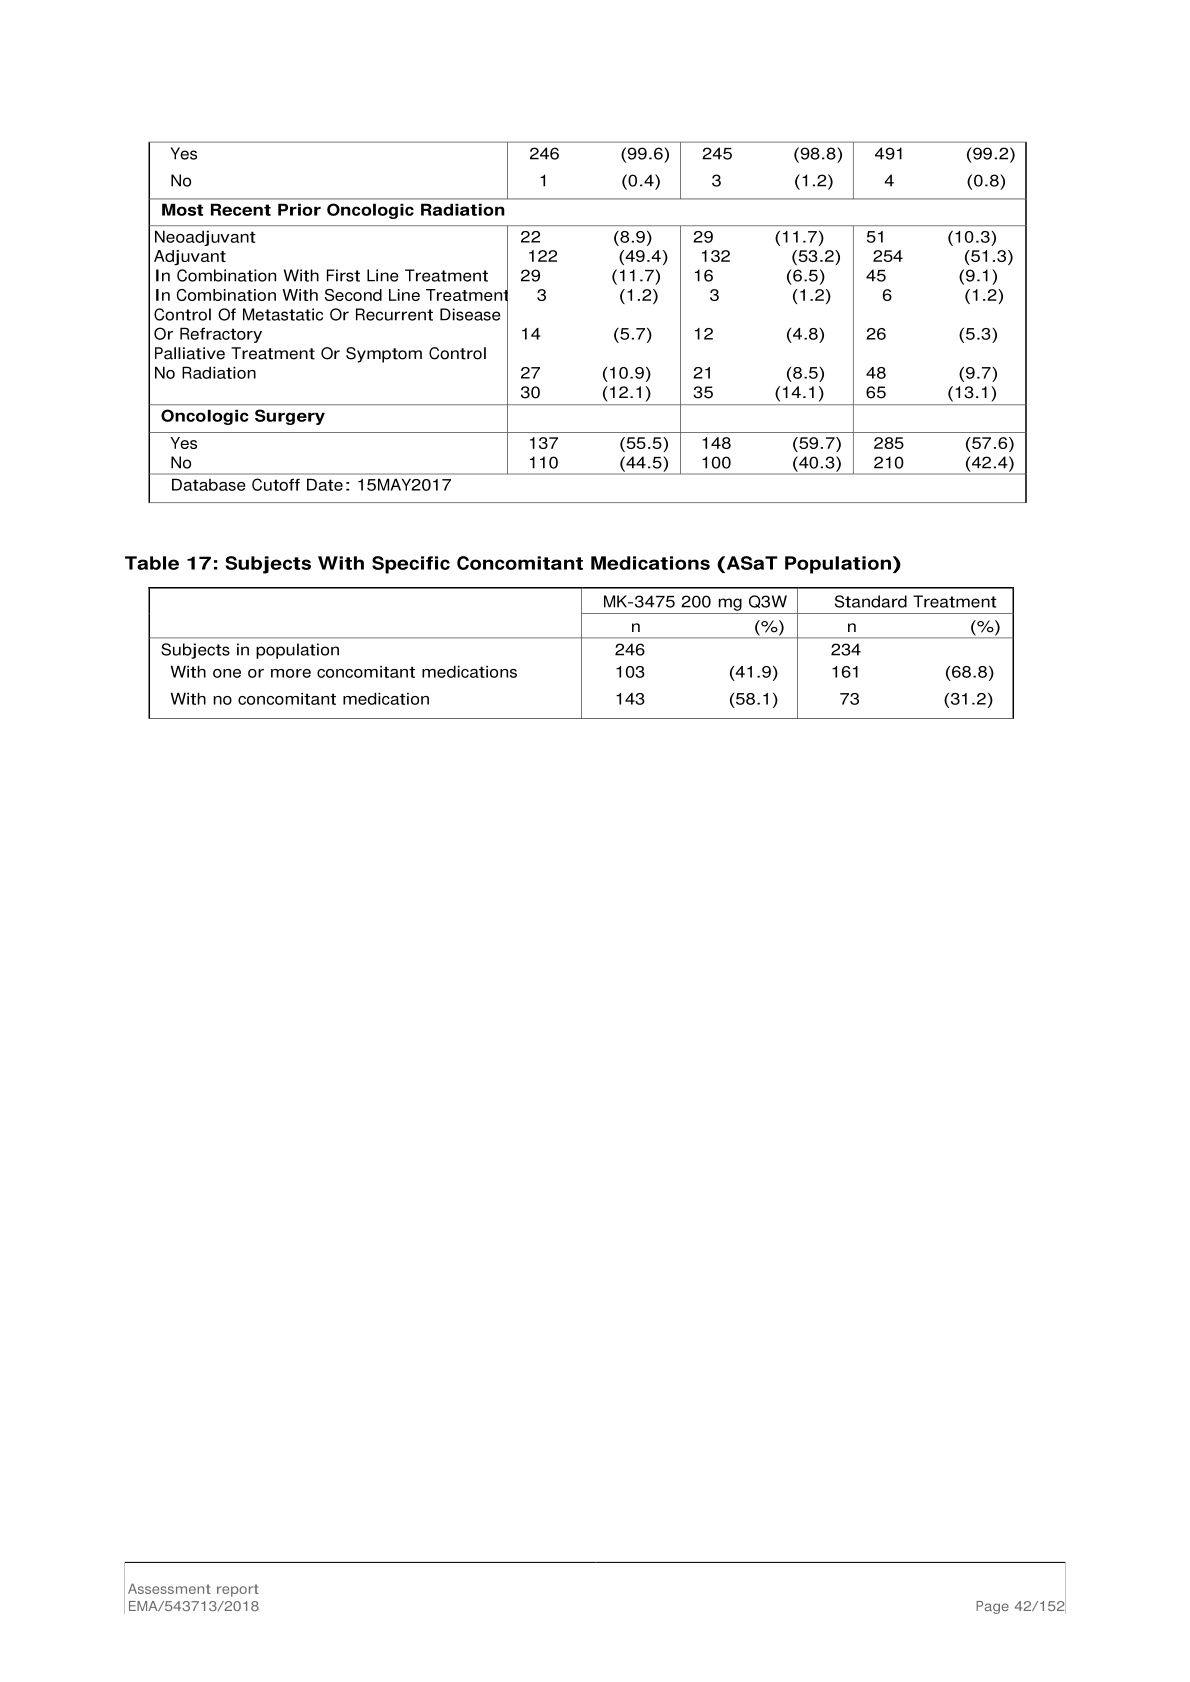merged_cells: (148, 140, 1028, 504), (148, 587, 1015, 720)
